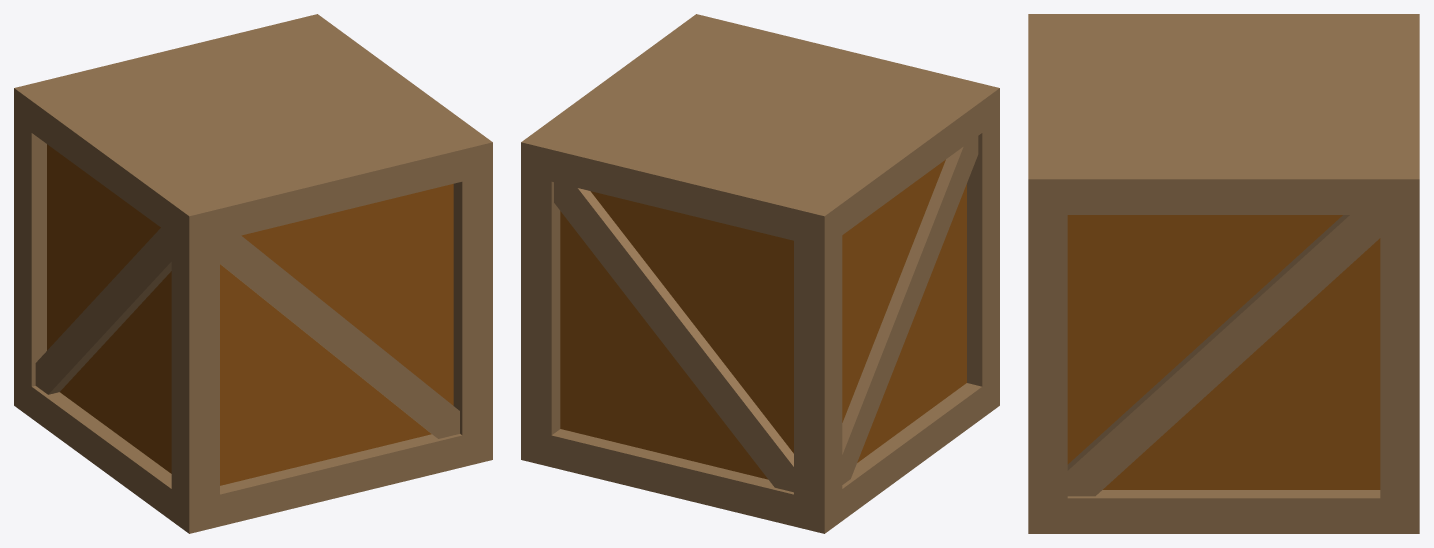
The model's file is Wooden_Box.glb.
The picture shows the model from 3 angles, left to right: view 1: azimuth 30°, elevation 25°; view 2: azimuth 150°, elevation 25°; view 3: azimuth 270°, elevation 25°; orthographic projection. The views are drawn at different scales.
Visible parts, largest first — view 1: Wooden_box_01; view 2: Wooden_box_01; view 3: Wooden_box_01.
Part boxes in pixels (box(x1,y1,x2,y2)): Wooden_box_01: box(14, 14, 492, 533); Wooden_box_01: box(521, 14, 999, 533); Wooden_box_01: box(1028, 14, 1419, 533).
Size of the model in its own units: 1 by 1 by 1.
